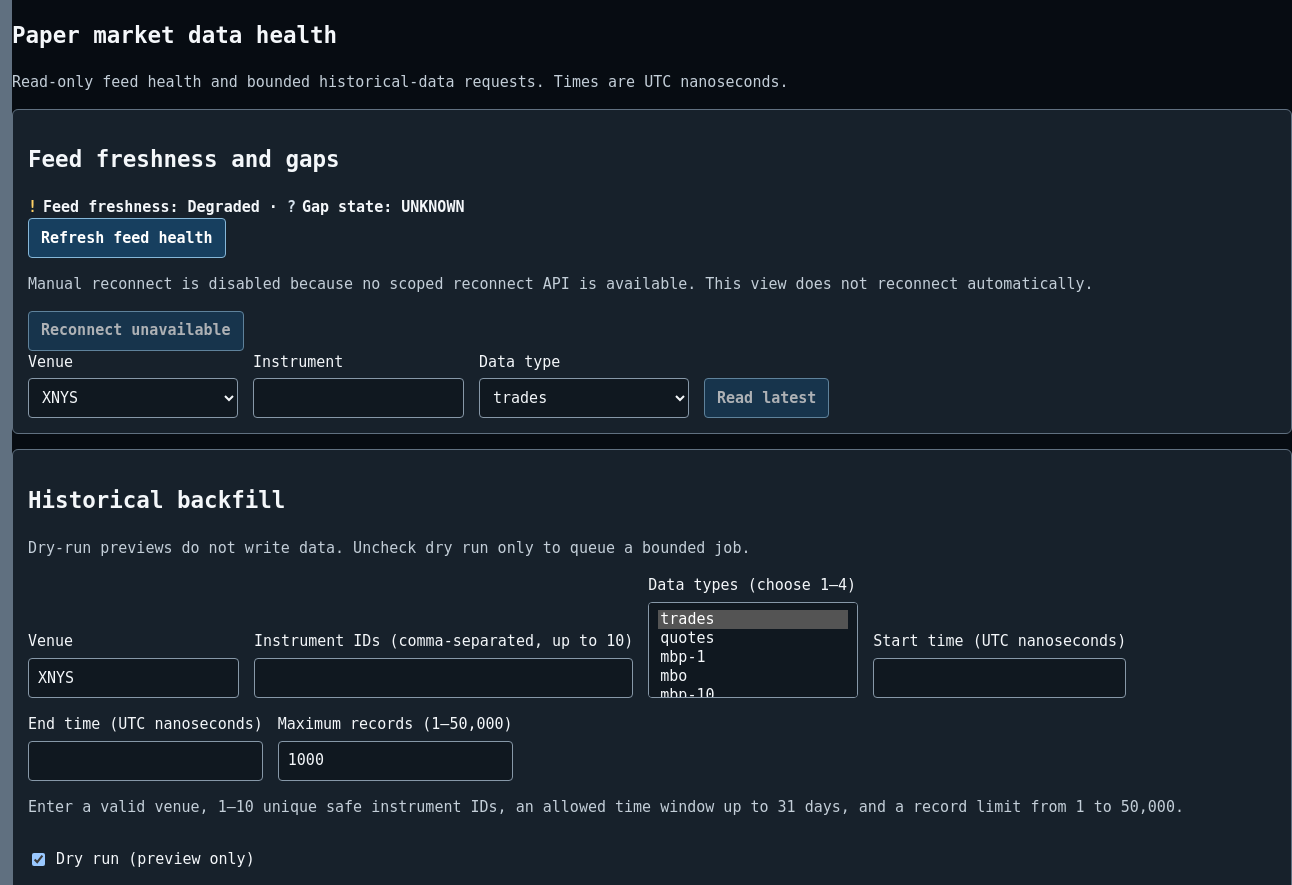
Test: PaperMarketDataHealthView › shows event and ingest clocks separately, and preserves the last snapshot on a later error
This screenshot has width=1292, height=885.
Type "AAPL" into the field named "Latest data instrument". click: {"x": 358, "y": 398}
box: [253, 378, 464, 418]
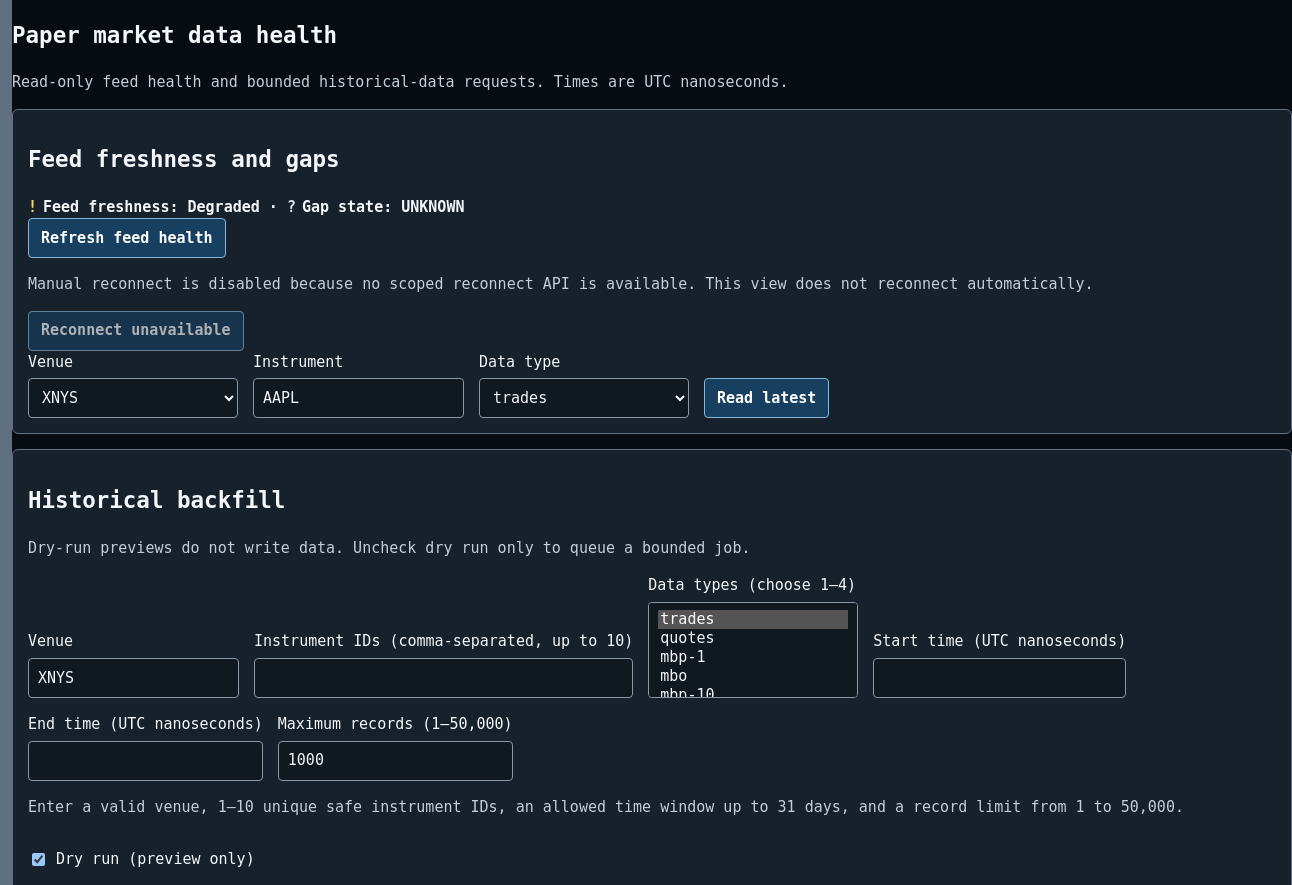
Click the button "Read latest". click: {"x": 767, "y": 398}
box: [704, 378, 829, 418]
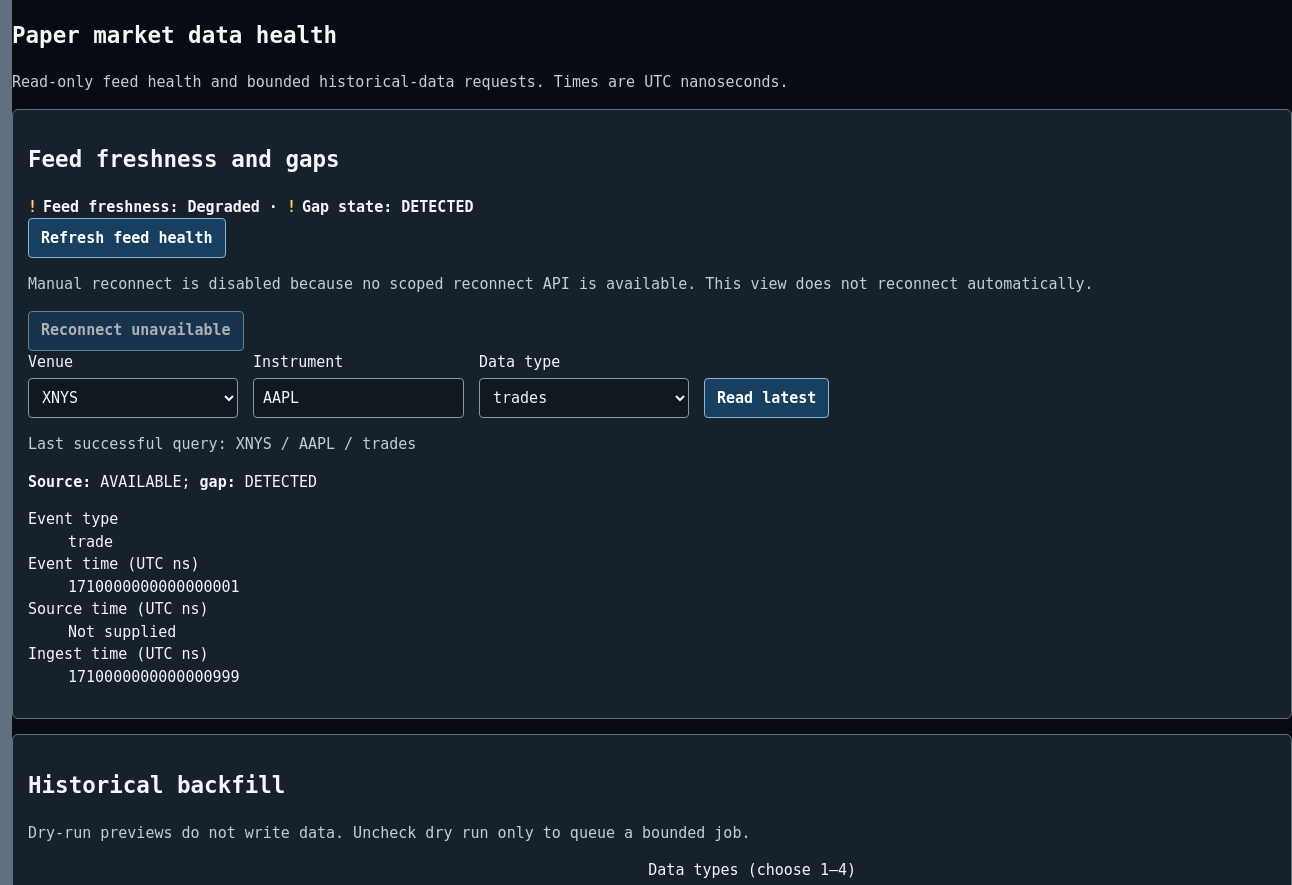
Expected: the text "1710000000000000001" is shown, [68, 578, 240, 596]
Expected: the text "1710000000000000999" is shown, [68, 668, 240, 686]
Click the button "Read latest". click: {"x": 767, "y": 398}
box: [704, 378, 829, 418]
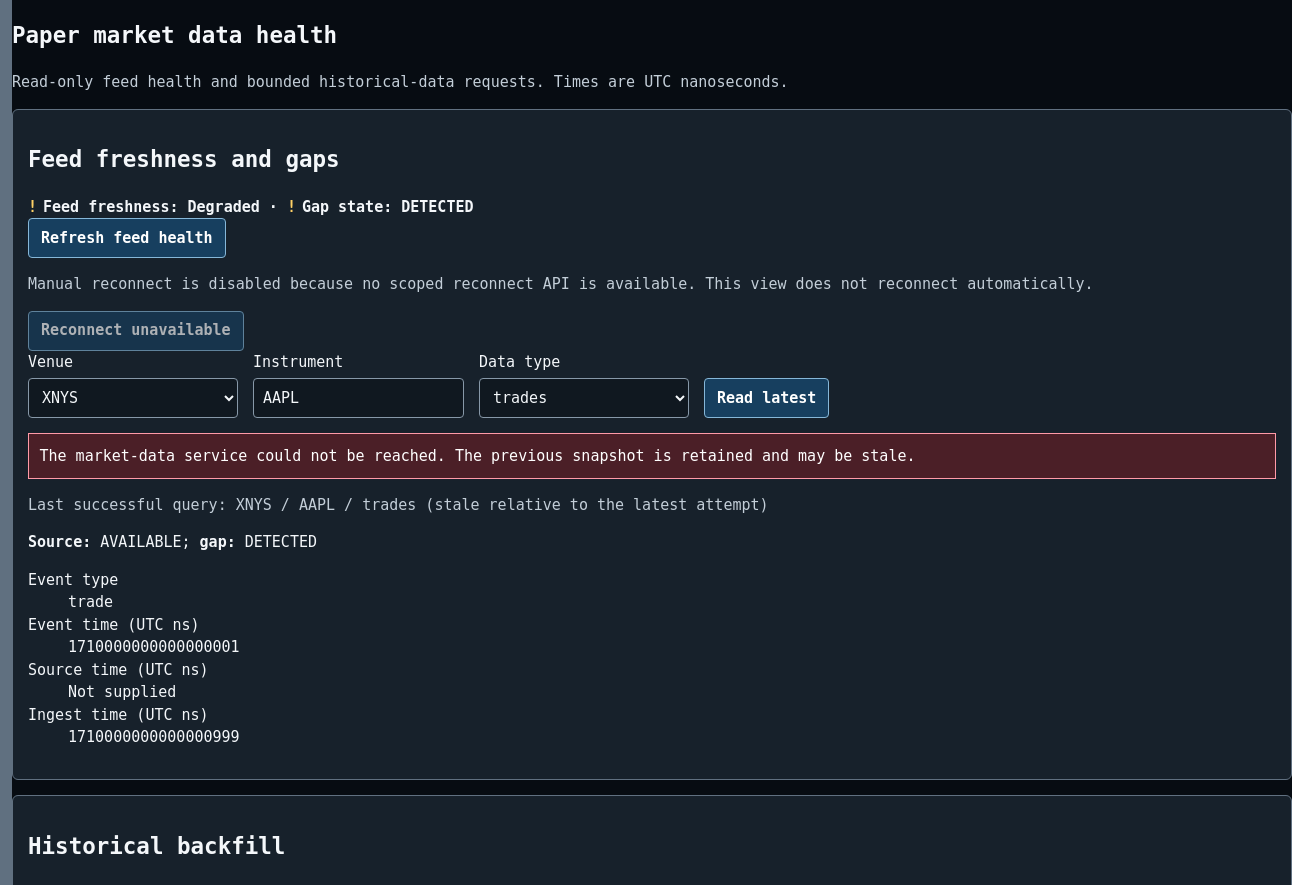
Expected: the text "1710000000000000001" is shown, [68, 638, 240, 656]
Expected: the text "Gap state: DETECTED" is shown, [302, 198, 474, 216]
Expected: the 2nd message shows "could not be reached", [40, 447, 446, 465]
